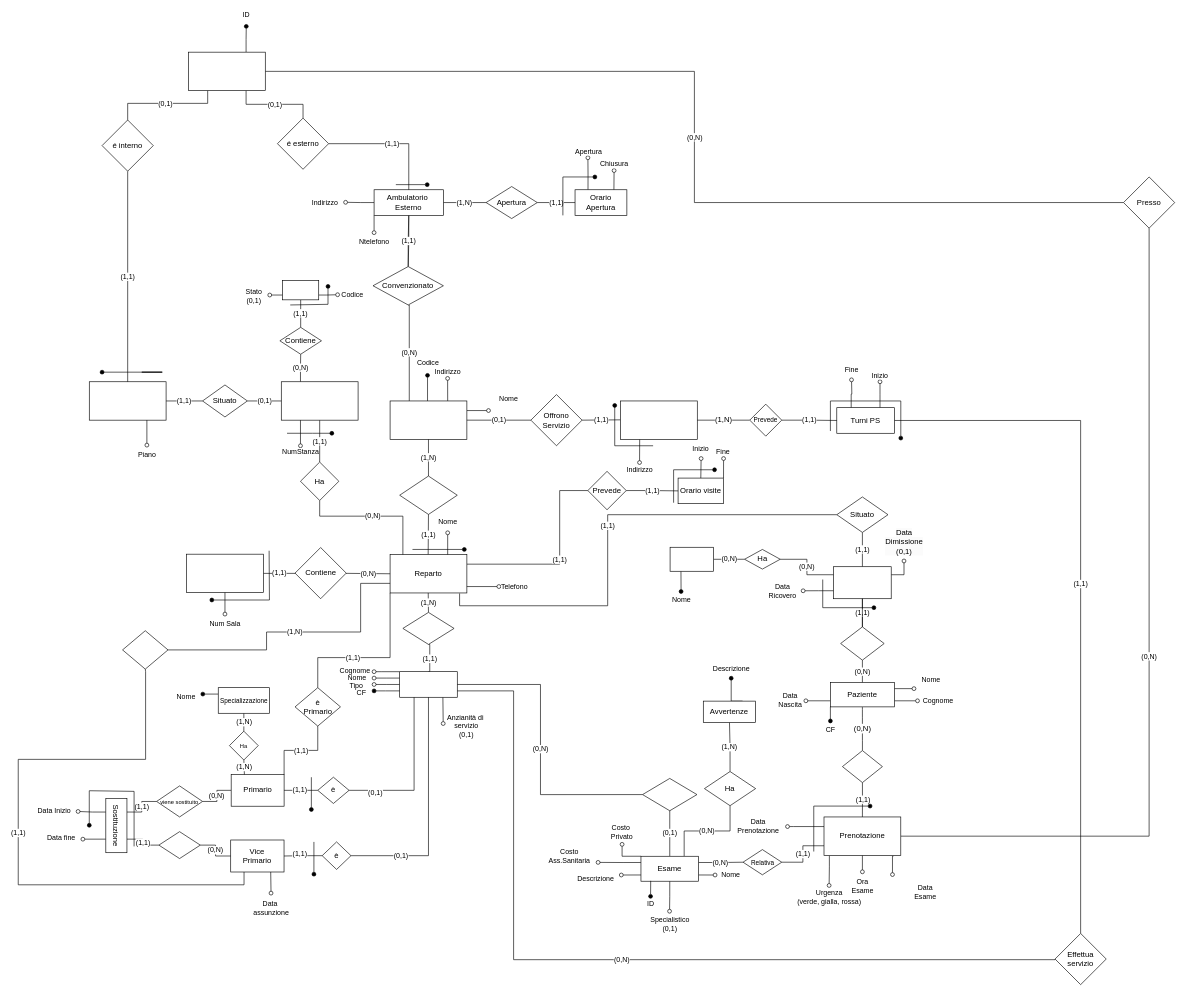
Some shapes in this 1186 by 996 pixel diagram are drawn without their labels. The box of each missing label's shape, as (x1, y1, x2, y2) in pixels:
Ambulatorio: (188, 52, 265, 91)
Ambulatorio interno: (89, 381, 166, 420)
Composizione: (399, 475, 457, 514)
Composo da: (402, 612, 454, 644)
Effettua: (842, 750, 882, 783)
Ha sostituito: (158, 831, 200, 859)
Letto: (282, 280, 319, 300)
Ospedale: (389, 400, 467, 439)
Patologia: (669, 547, 714, 571)
Personale: (399, 671, 457, 697)
Prescritto: (642, 778, 697, 811)
Pronto soccorso: (620, 400, 697, 439)
Può essere: (840, 626, 884, 660)
Ricoverato: (833, 566, 891, 599)
Sala operatoria: (186, 554, 263, 593)
Stanza: (281, 381, 358, 420)
è Vice Primario: (122, 630, 168, 669)
